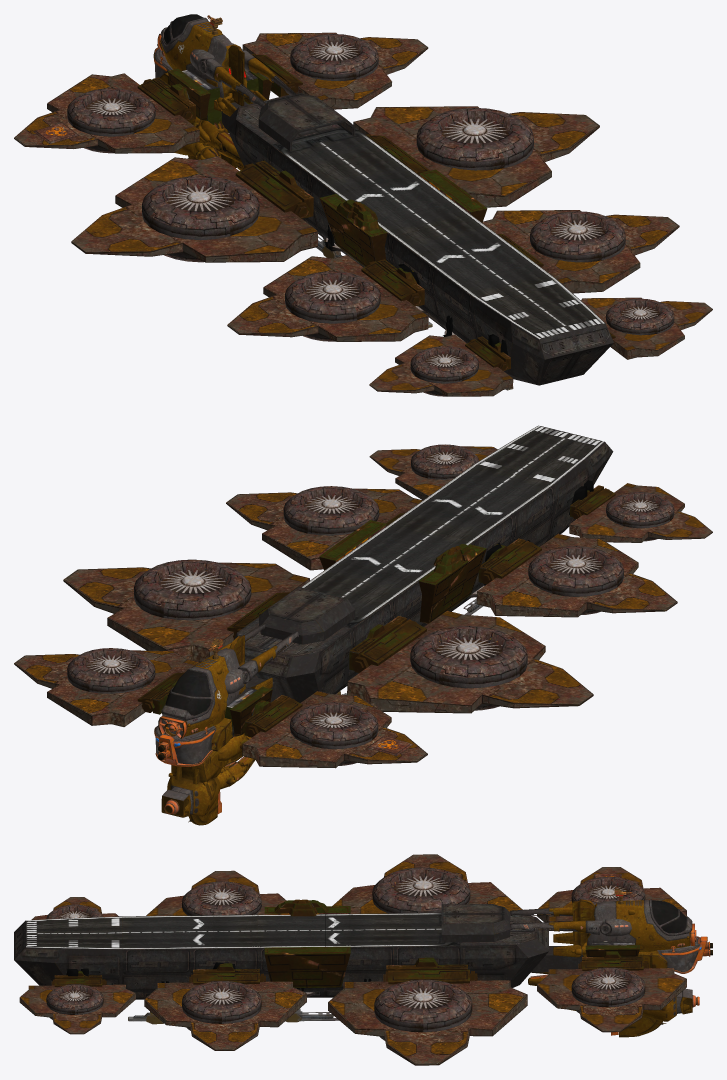
Rendered from gyrofort.glb.
3 renders of one model, top to bottom at view 1: azimuth 30°, elevation 25°; view 2: azimuth 150°, elevation 25°; view 3: azimuth 270°, elevation 25°, orthographic. The views are drawn at different scales.
Parts seen in each view (by area): view 1: L_2wing-geometry, R_2wing-geometry, core1-geometry, L_3wing-geometry, core4-geometry, core3-geometry, R_3wing-geometry, L_1wing-geometry, R_1wing-geometry, core2-geometry, body-geometry.007, L_4wing-geometry (+8 smaller); view 2: L_2wing-geometry, core1-geometry, R_2wing-geometry, L_3wing-geometry, body-geometry.007, L_1wing-geometry, core3-geometry, R_1wing-geometry, R_3wing-geometry, core2-geometry, core4-geometry, L_4wing-geometry (+6 smaller); view 3: core1-geometry, R_2wing-geometry, core3-geometry, R_3wing-geometry, body-geometry.007, R_1wing-geometry, core2-geometry, core4-geometry, L_2wing-geometry, R_4wing-geometry, L_3wing-geometry, L_1wing-geometry (+13 smaller).
Part boxes in pixels (x1,y1,x2,y2): L_2wing-geometry: (71,156,317,262); R_2wing-geometry: (353,106,599,207); core1-geometry: (221,93,432,267); L_3wing-geometry: (227,255,428,341); core4-geometry: (471,278,613,385); core3-geometry: (390,217,554,343); R_3wing-geometry: (482,210,679,293); L_1wing-geometry: (14,73,199,153); R_1wing-geometry: (242,32,428,109); core2-geometry: (319,169,487,267); body-geometry.007: (153,14,272,159); L_4wing-geometry: (369,334,513,396); L_2wing-geometry: (347,610,593,713); core1-geometry: (233,551,432,702); R_2wing-geometry: (63,559,309,662); L_3wing-geometry: (476,533,677,617); body-geometry.007: (154,635,272,825); L_1wing-geometry: (242,691,427,768); core3-geometry: (392,464,555,604); R_1wing-geometry: (14,648,199,726); R_3wing-geometry: (226,486,422,570); core2-geometry: (319,520,486,623); core4-geometry: (474,425,613,541); L_4wing-geometry: (569,483,712,542); core1-geometry: (324,904,582,997); R_2wing-geometry: (328,969,527,1065); core3-geometry: (121,915,257,999); R_3wing-geometry: (144,973,306,1050); body-geometry.007: (572,899,707,1037); R_1wing-geometry: (537,960,686,1032); core2-geometry: (257,899,350,997); core4-geometry: (14,916,122,985); L_2wing-geometry: (332,854,522,913); R_4wing-geometry: (19,978,135,1034); L_3wing-geometry: (146,870,286,915); L_1wing-geometry: (537,867,686,930).
Size of the model in its own units: 116 by 38.24 by 164.
5 materials, 4 textured.
